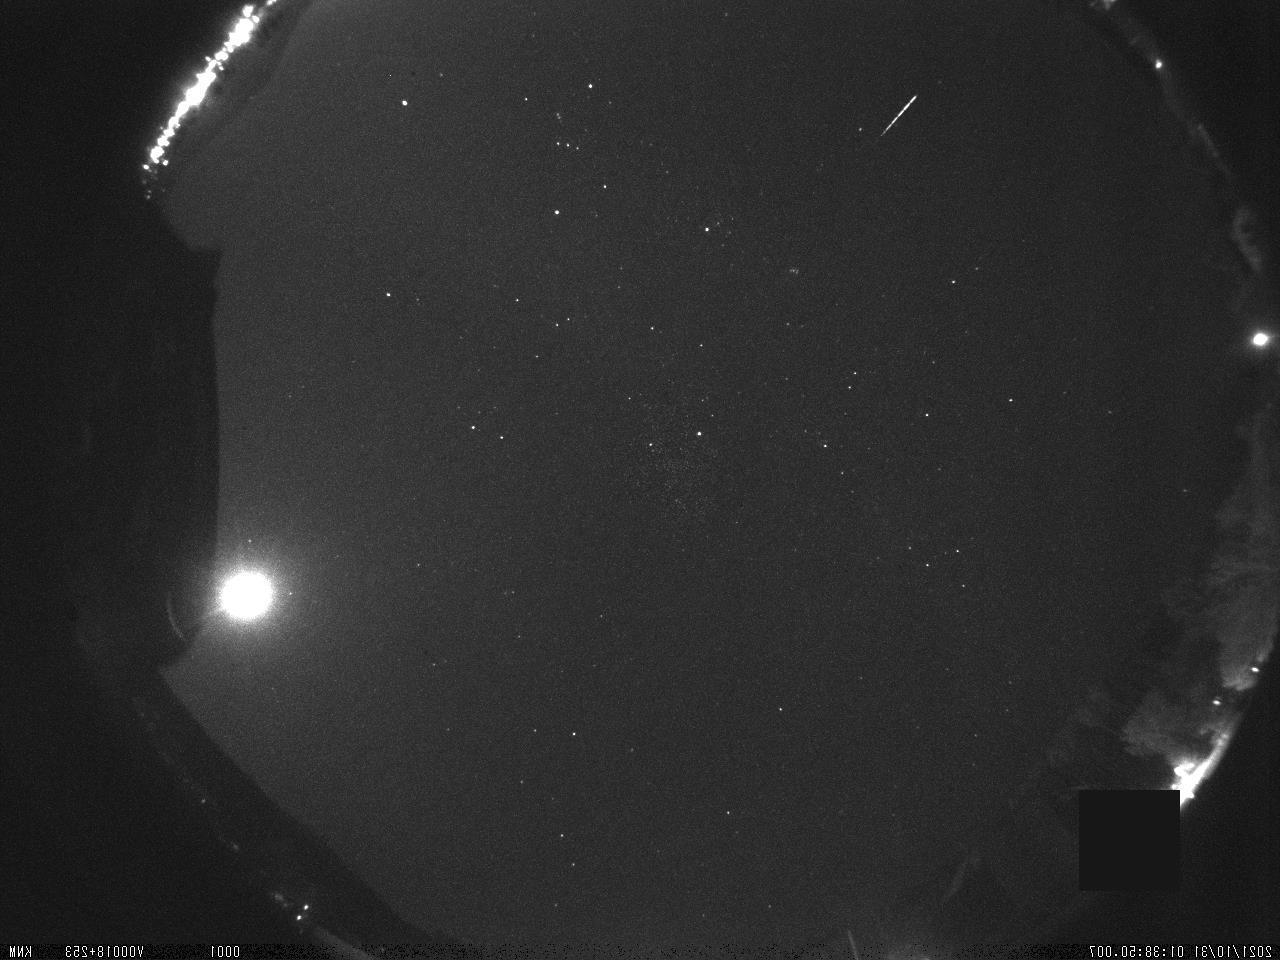meteor: (866, 85, 935, 146)
